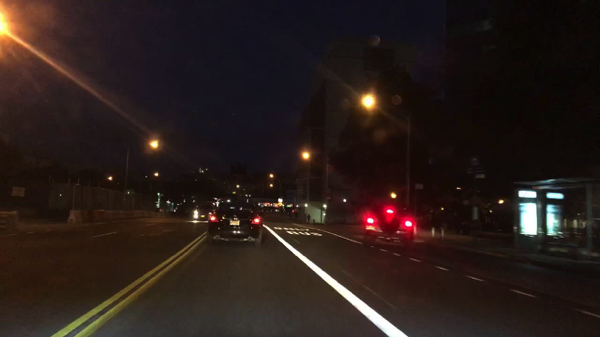car: (206, 198, 265, 249), (362, 206, 413, 250), (192, 200, 216, 221)
person: (286, 206, 293, 221), (305, 213, 312, 223), (293, 211, 298, 223)
traffic sign: (469, 153, 481, 166), (475, 166, 484, 179), (413, 184, 423, 190), (466, 169, 473, 176)
